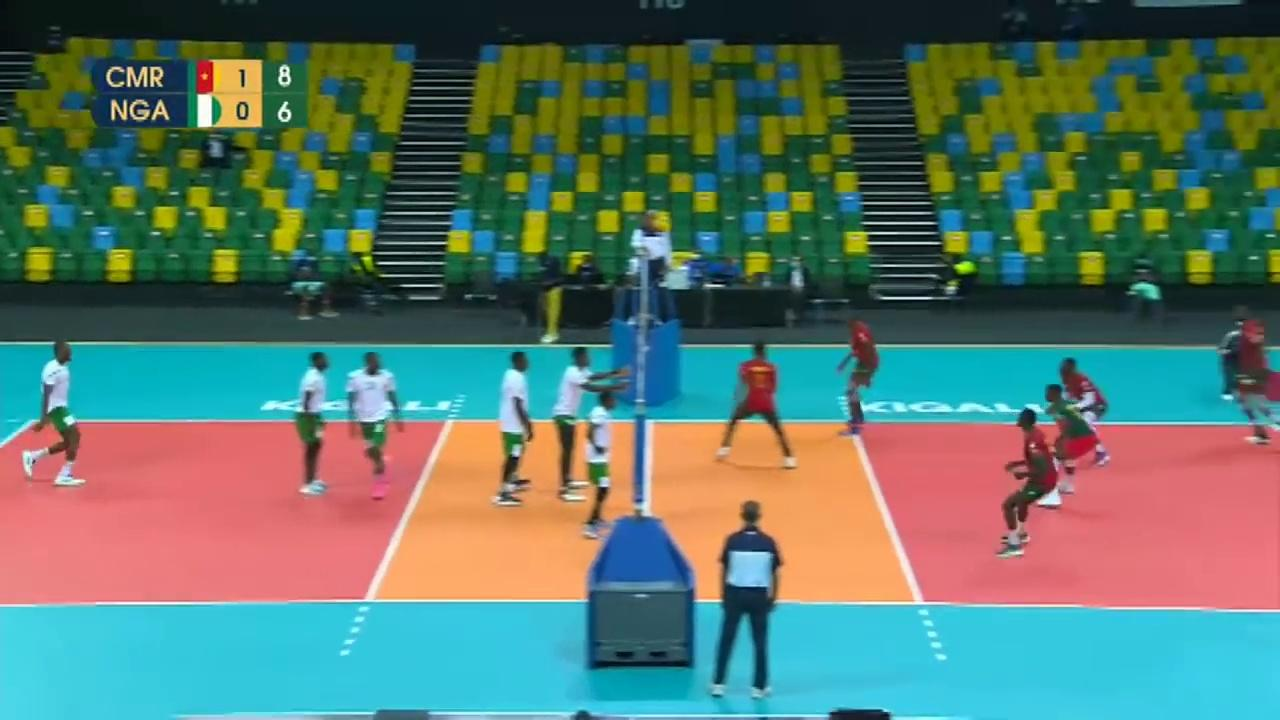player: (708, 503, 785, 697), (10, 339, 93, 485), (986, 405, 1054, 575), (1031, 381, 1102, 520), (263, 354, 335, 491), (716, 347, 797, 468), (1048, 348, 1124, 466), (576, 390, 629, 549), (551, 336, 601, 499), (347, 353, 402, 489), (493, 348, 536, 504), (1233, 304, 1280, 446), (834, 321, 875, 431)
refree: (1220, 318, 1280, 404), (631, 203, 671, 324)
